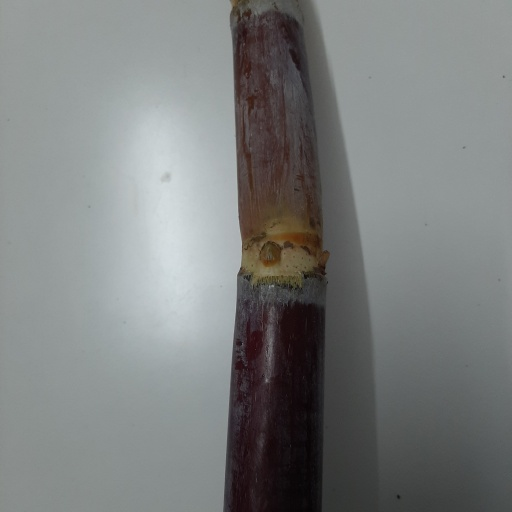Bud: (260, 240, 282, 268)
